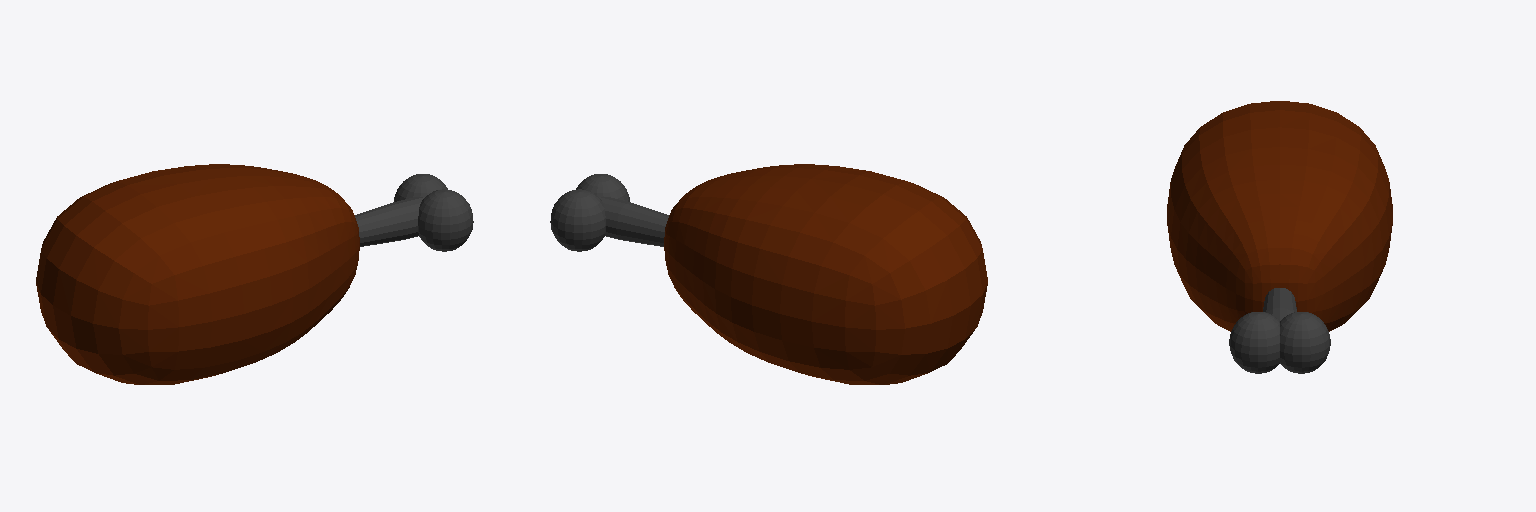
File: Thigh01.obj
3 views of the same model, side by side, from view 1: azimuth 30°, elevation 25°; view 2: azimuth 150°, elevation 25°; view 3: azimuth 270°, elevation 25° (orthographic).
Parts seen in each view (by area): view 1: Thigh01_Sphere.002; view 2: Thigh01_Sphere.002; view 3: Thigh01_Sphere.002.
Part boxes in pixels (bbox=[...]): Thigh01_Sphere.002: bbox=[36, 164, 473, 384]; Thigh01_Sphere.002: bbox=[550, 164, 987, 384]; Thigh01_Sphere.002: bbox=[1167, 101, 1392, 373].
Size of the model in its own units: 6.21 by 2.65 by 2.99.